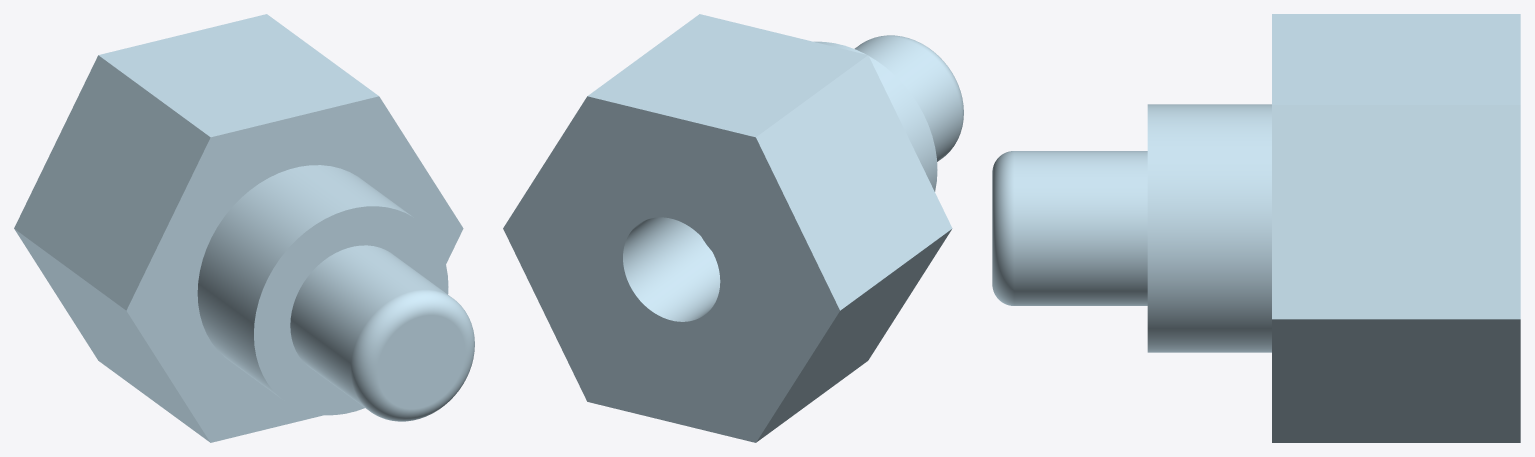
3 views of the same model, side by side, from view 1: azimuth 30°, elevation 25°; view 2: azimuth 150°, elevation 25°; view 3: azimuth 270°, elevation 25° (orthographic). The views are drawn at different scales.
Parts seen in each view (by area): view 1: mesh3055, mesh3054, mesh3053, mesh3056, mesh3057, mesh3058, mesh3049, mesh3059, mesh3060; view 2: mesh3048, mesh3054, mesh3053, mesh3049, mesh3047, mesh3058, mesh3056, mesh3059; view 3: mesh3052, mesh3056, mesh3051, mesh3053, mesh3058, mesh3059.
Part boxes in pixels (x1,y1,x2,y2): mesh3055: [126, 96, 463, 442]; mesh3054: [14, 55, 210, 310]; mesh3053: [98, 14, 378, 137]; mesh3056: [197, 165, 413, 397]; mesh3057: [254, 206, 448, 415]; mesh3058: [290, 245, 449, 408]; mesh3049: [14, 229, 210, 442]; mesh3059: [350, 289, 474, 421]; mesh3060: [377, 315, 464, 408]; mesh3048: [503, 96, 839, 442]; mesh3054: [756, 55, 952, 310]; mesh3053: [587, 14, 867, 137]; mesh3049: [756, 229, 951, 442]; mesh3047: [623, 217, 720, 321]; mesh3058: [854, 36, 961, 161]; mesh3056: [814, 41, 937, 191]; mesh3059: [868, 35, 963, 155]; mesh3052: [1272, 105, 1520, 319]; mesh3056: [1147, 104, 1271, 352]; mesh3051: [1272, 319, 1520, 442]; mesh3053: [1272, 14, 1520, 104]; mesh3058: [1014, 151, 1147, 305]; mesh3059: [992, 151, 1014, 305].
Size of the model in its own units: 0.0139 by 0.012 by 0.017.
